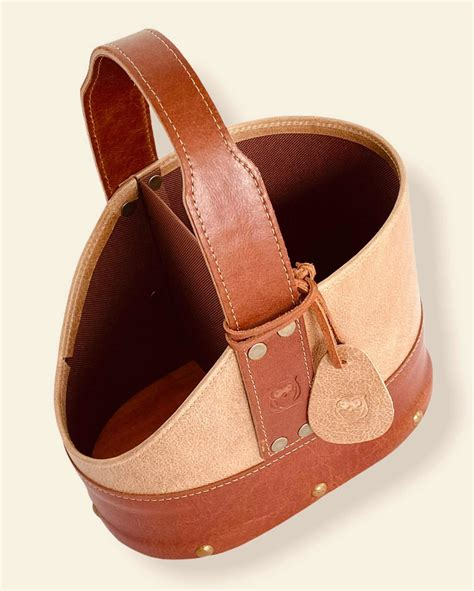cuero: (56, 28, 434, 562)
